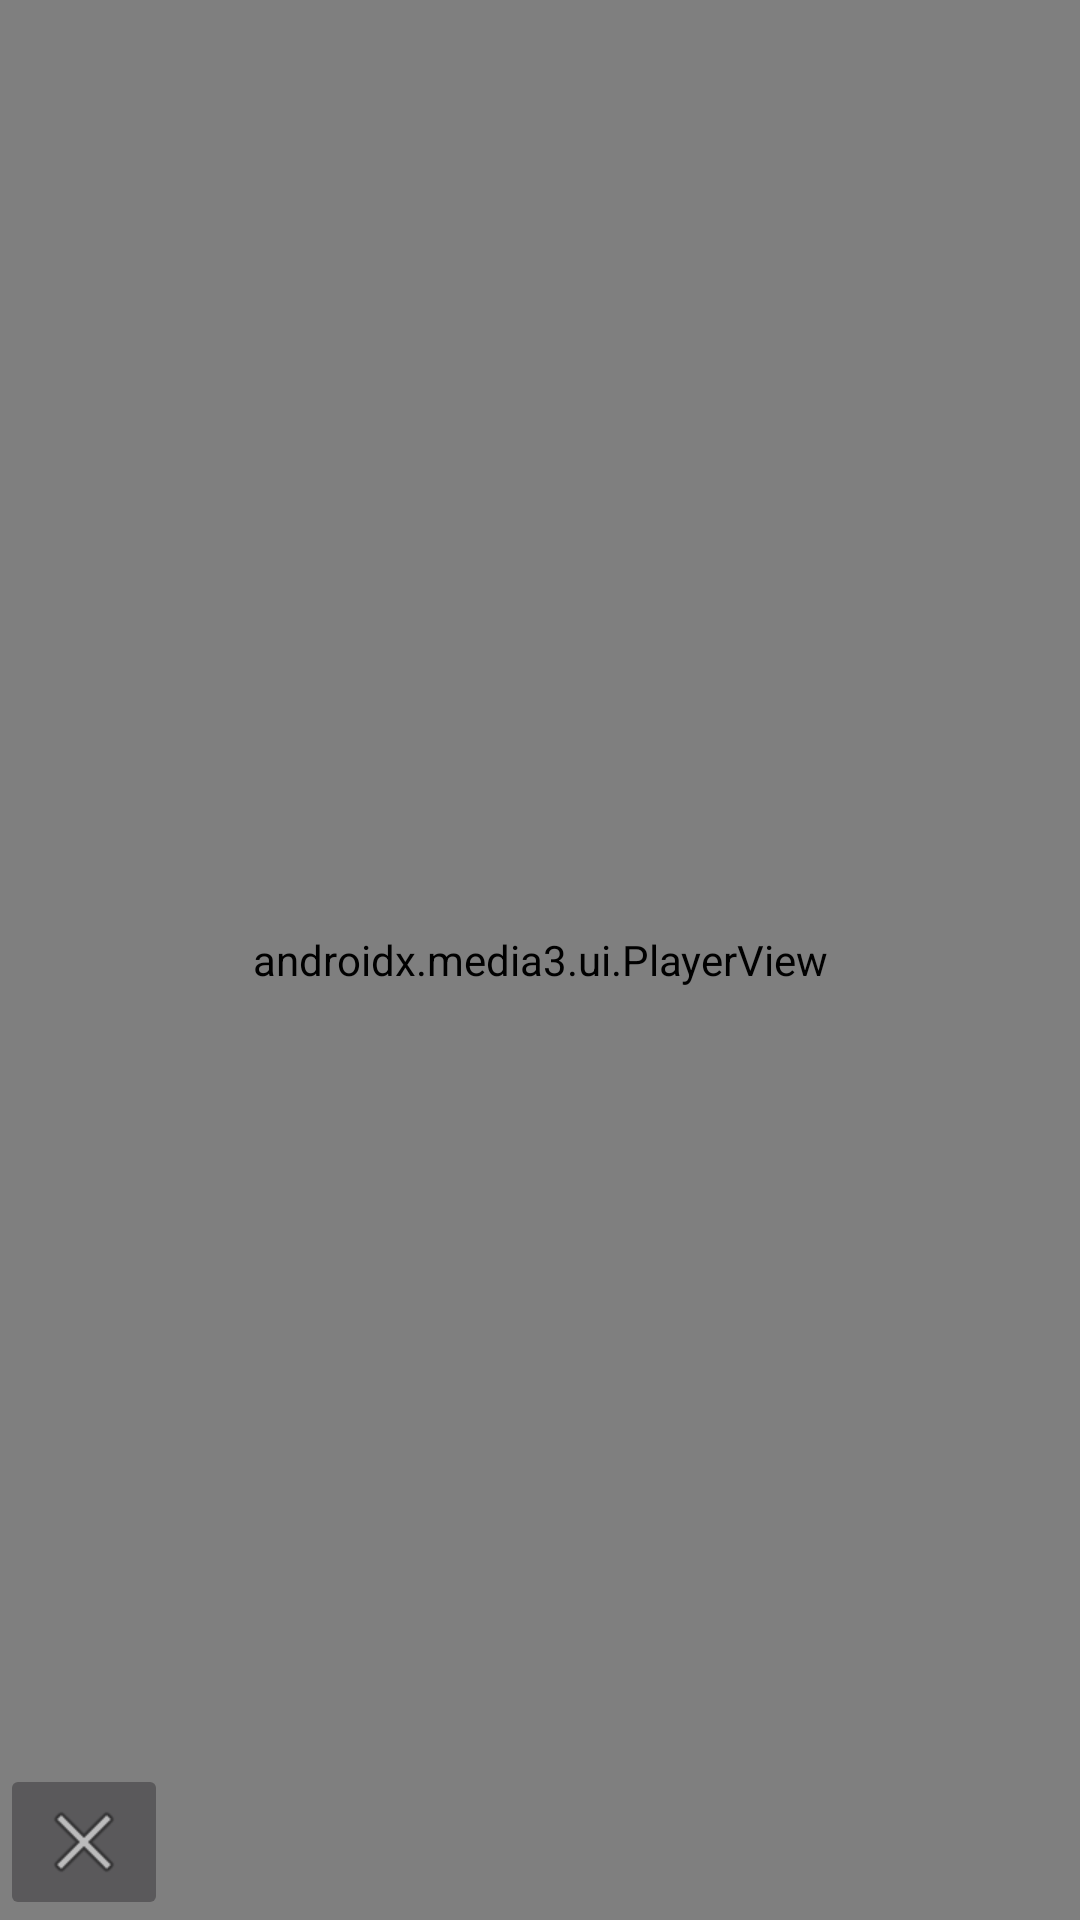

Locate icon controls on the screen. Image size 1080*1920, boxes as (x1, y1, x2, y2).
close clear cancel: (12, 1782, 156, 1902)
